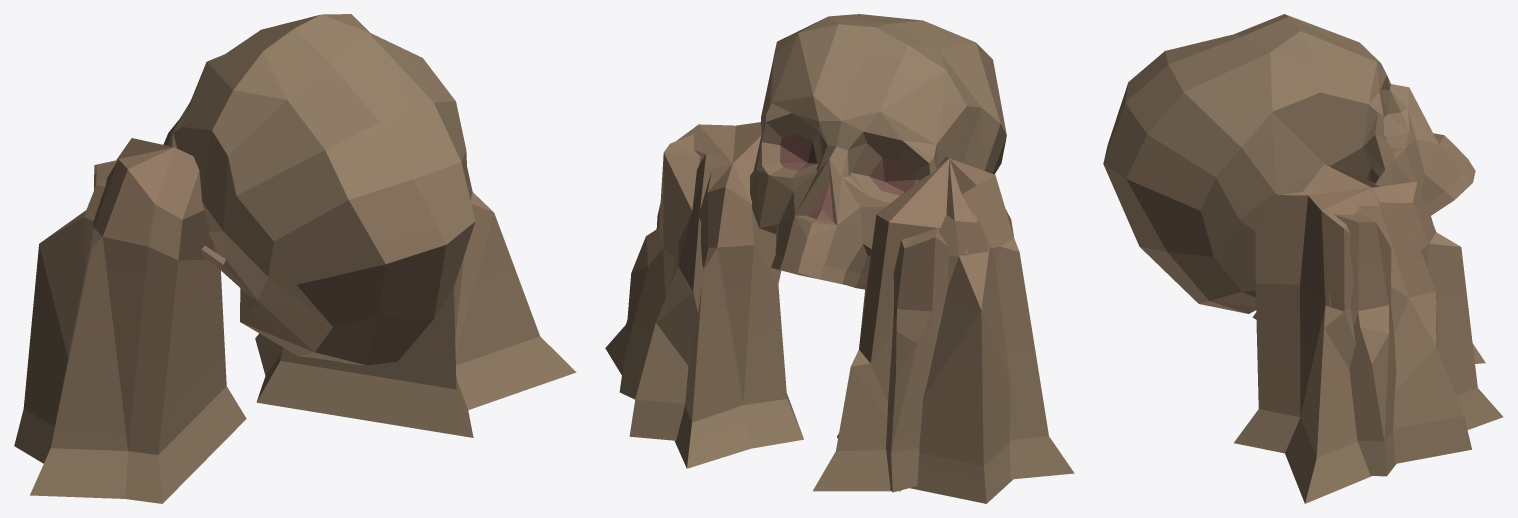
Rendered from skull cliffs.fbx.
3 views of the same model, side by side, from view 1: azimuth 30°, elevation 25°; view 2: azimuth 150°, elevation 25°; view 3: azimuth 270°, elevation 25° (orthographic). The views are drawn at different scales.
Parts seen in each view (by area): view 1: Cube; view 2: Cube; view 3: Cube.
Part boxes in pixels (x1=…): Cube: x1=14, y1=14, x2=576, y2=503; Cube: x1=605, y1=14, x2=1074, y2=503; Cube: x1=1103, y1=14, x2=1503, y2=503.
Bounding box in the file's own units: 505 × 384 × 379.
